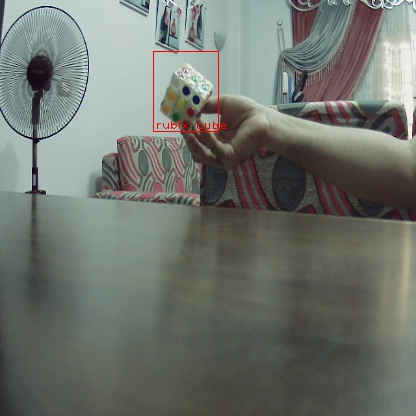Rubix Cube: (165, 64, 211, 124)
